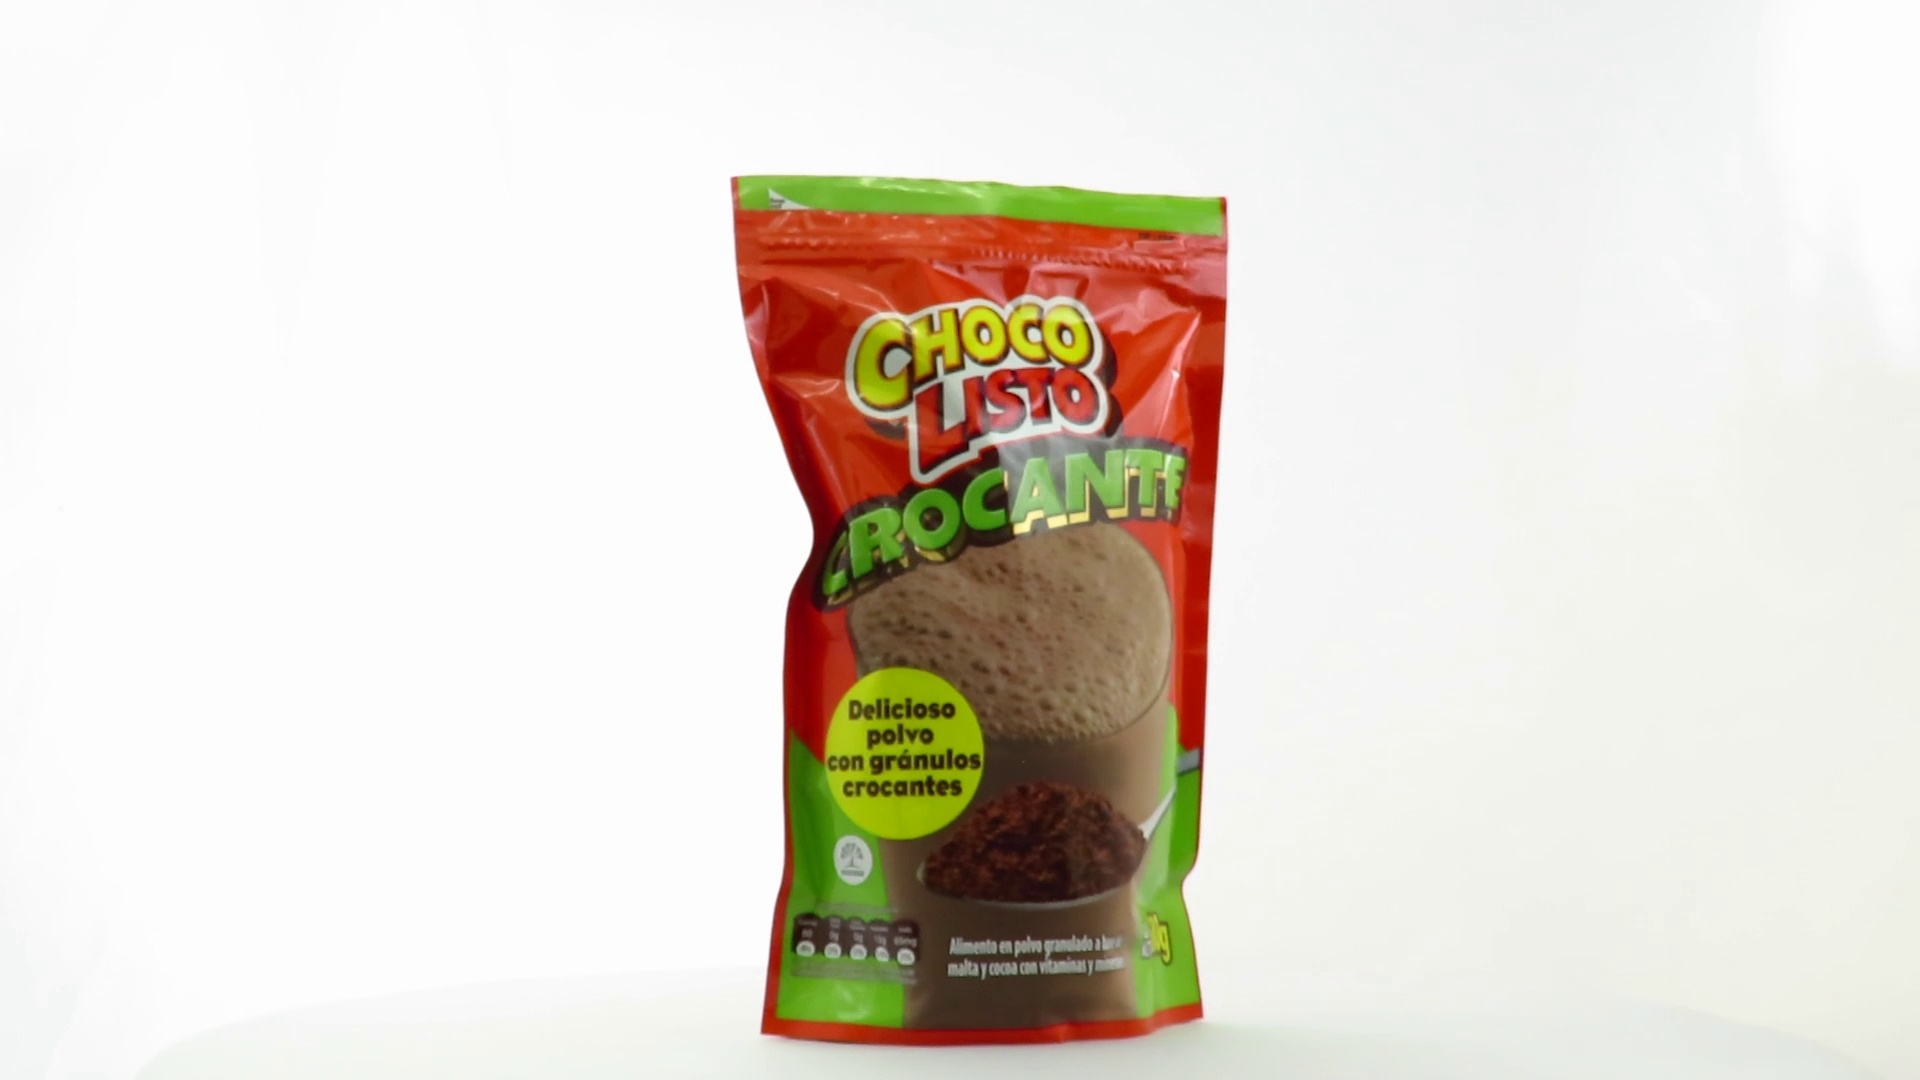COL0170102DYP50000: (725, 170, 1234, 1054)
